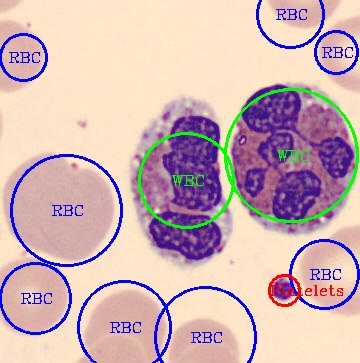Platelets: (266, 272, 299, 305)
RBC: (1, 148, 118, 260), (81, 286, 169, 361), (298, 222, 359, 318), (1, 257, 72, 339), (165, 313, 243, 361), (1, 16, 48, 95), (318, 14, 359, 95)
WBC: (232, 81, 358, 233), (129, 98, 234, 269)
